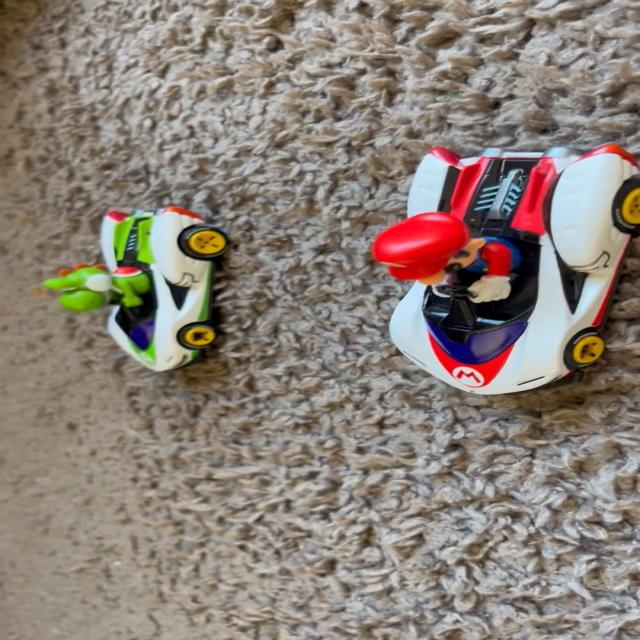mario: (362, 146, 640, 408)
yoshi: (19, 180, 242, 398)
